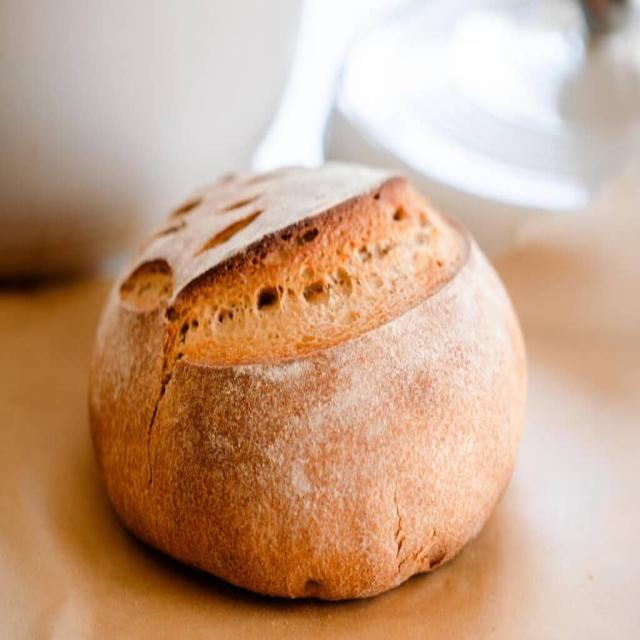Maltese-Bread: (89, 165, 526, 600)
